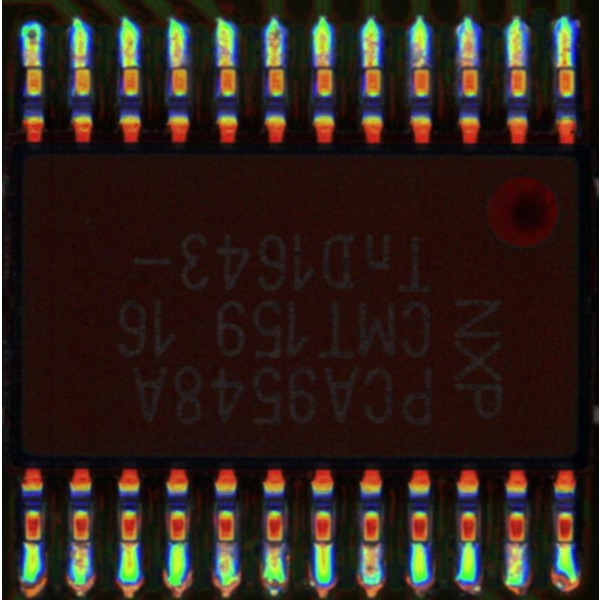Bad_podu: (559, 54, 573, 82), (318, 531, 329, 562), (124, 532, 135, 562), (511, 54, 523, 79), (365, 536, 379, 557), (26, 56, 40, 77), (365, 55, 378, 77), (74, 536, 89, 555), (465, 56, 477, 79), (317, 55, 329, 78), (269, 54, 280, 78), (220, 60, 233, 79)
